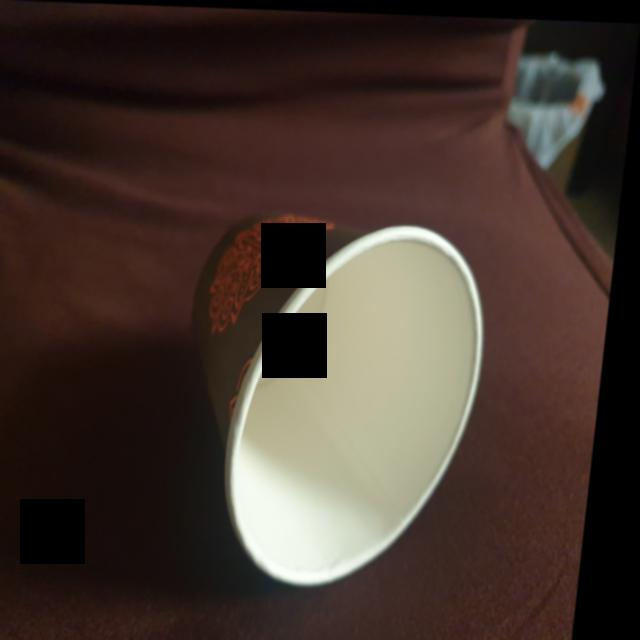cups: (167, 190, 510, 591)
